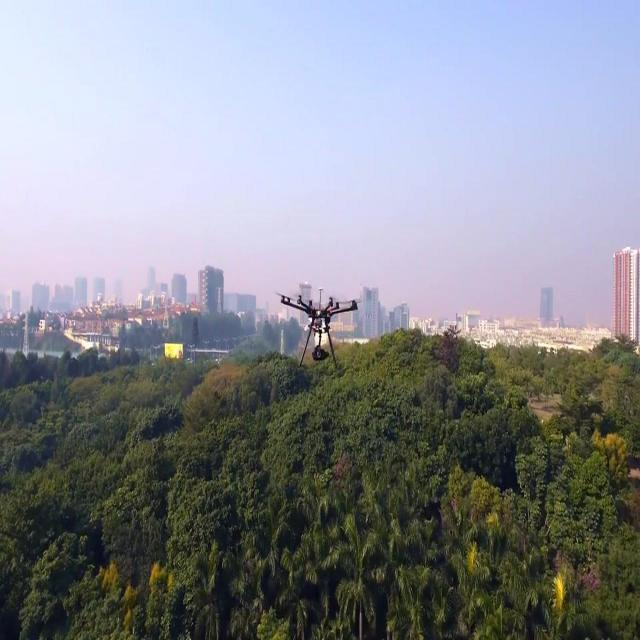UAV: (274, 286, 362, 370)
